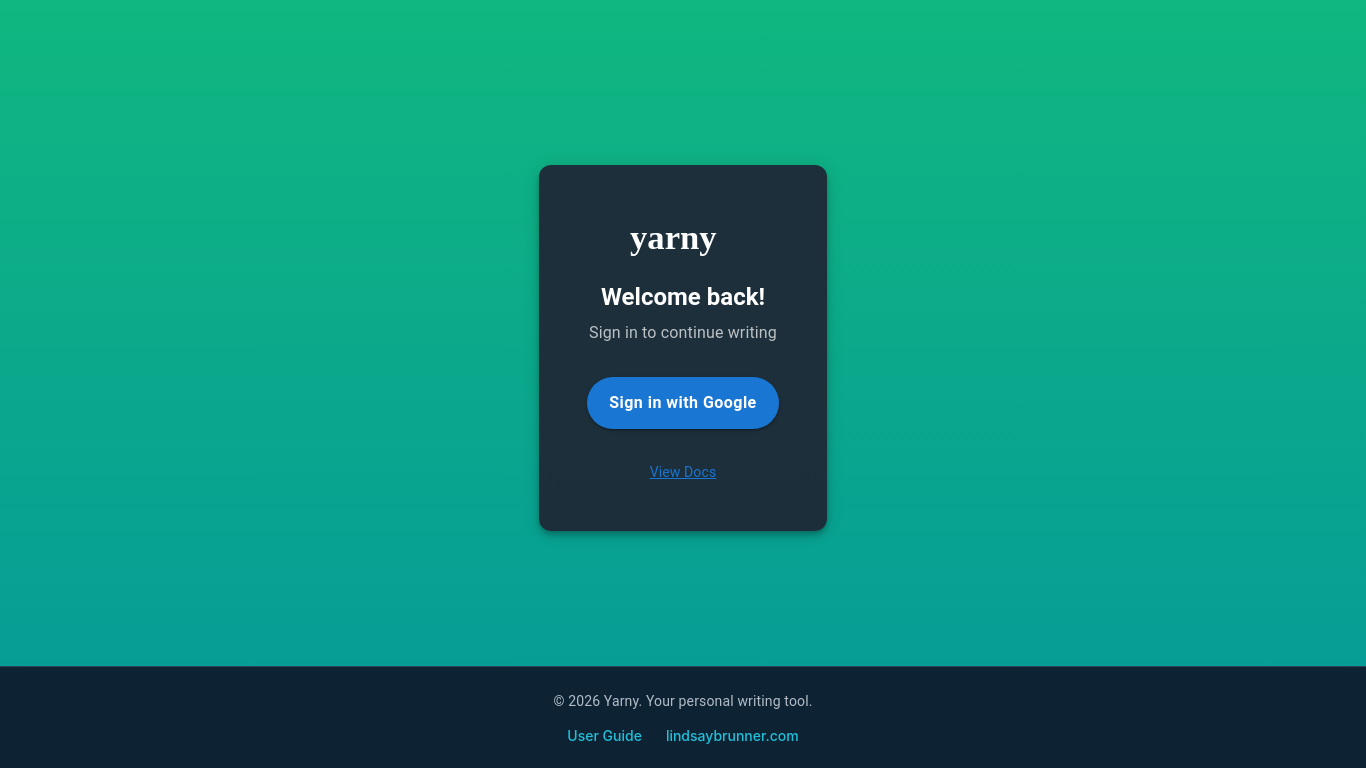
Test: LoginPage › shows error when Google Sign-In is not loaded
Click the button "Sign in with Google": (683, 403) [587,377,779,429]
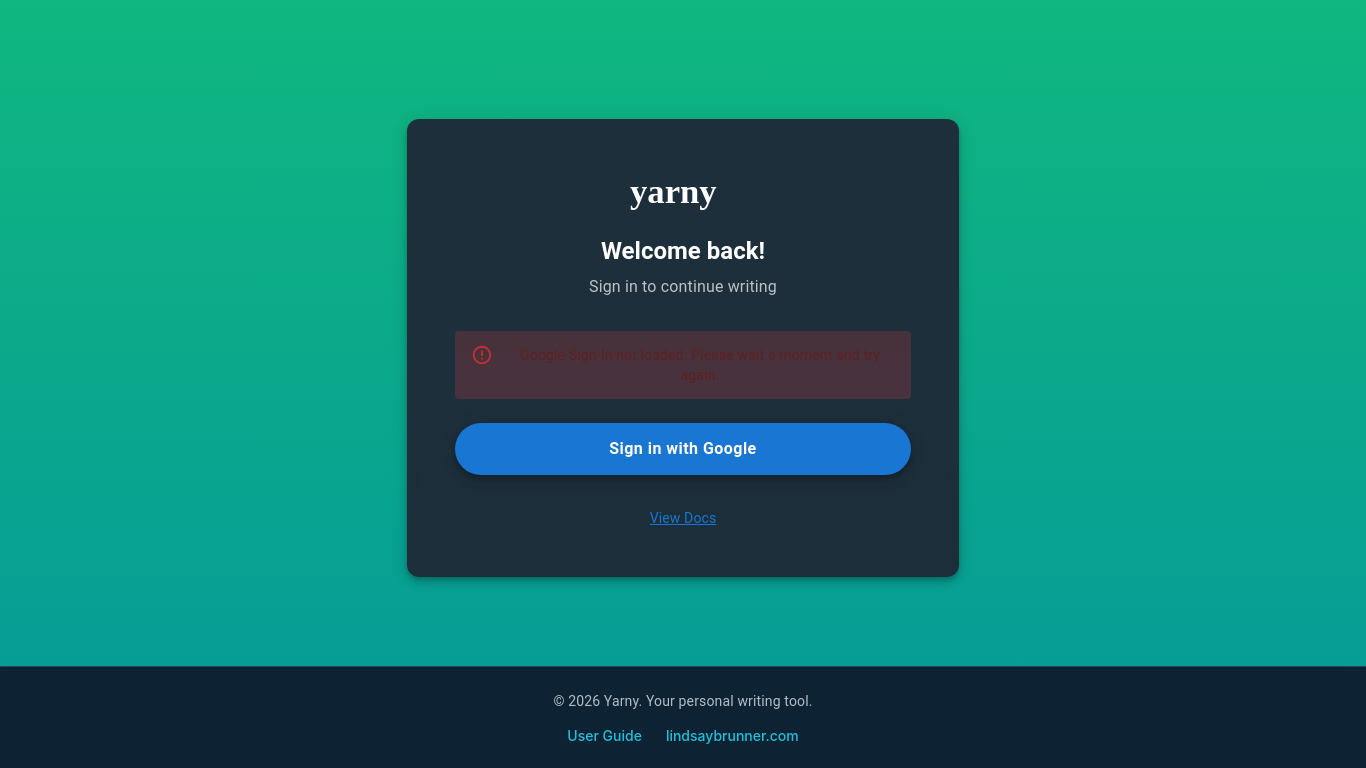
Check: the text "Google Sign-In not loaded" is shown, box [520,347,880,383]
